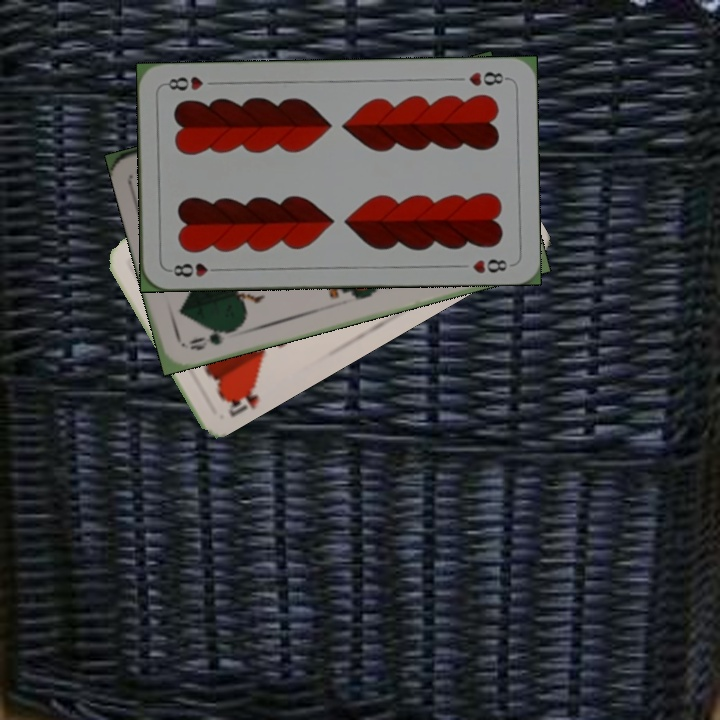GO: (185, 324, 239, 354)
H8: (165, 259, 224, 279), (465, 68, 511, 89)
HO: (218, 377, 261, 420)
